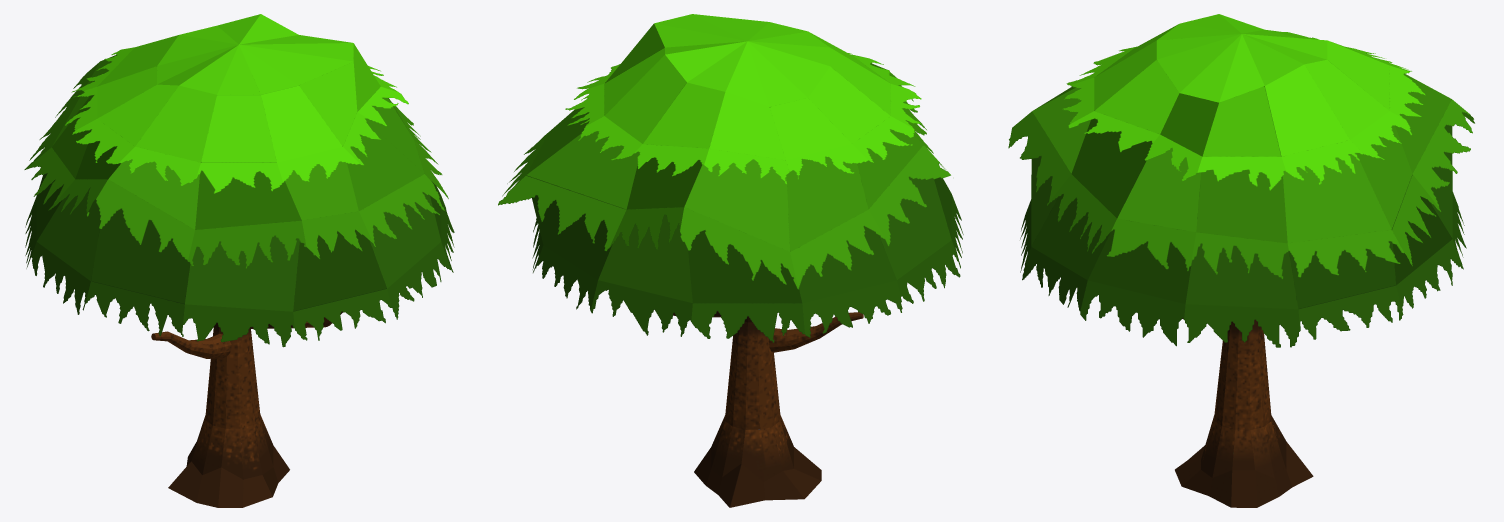
File: TreeLarge.fbx
3 renders of one model, left to right at view 1: azimuth 30°, elevation 25°; view 2: azimuth 150°, elevation 25°; view 3: azimuth 270°, elevation 25°, orthographic. The views are drawn at different scales.
Parts seen in each view (by area): view 1: cylinder; view 2: cylinder; view 3: cylinder.
Part boxes in pixels (x1,y1,x2,y2): cylinder: (24,14,454,507); cylinder: (498,14,963,507); cylinder: (1008,14,1474,507).
Bounding box in the file's own units: 832 × 876 × 873.
Materials: 1 (1 with a texture image).
